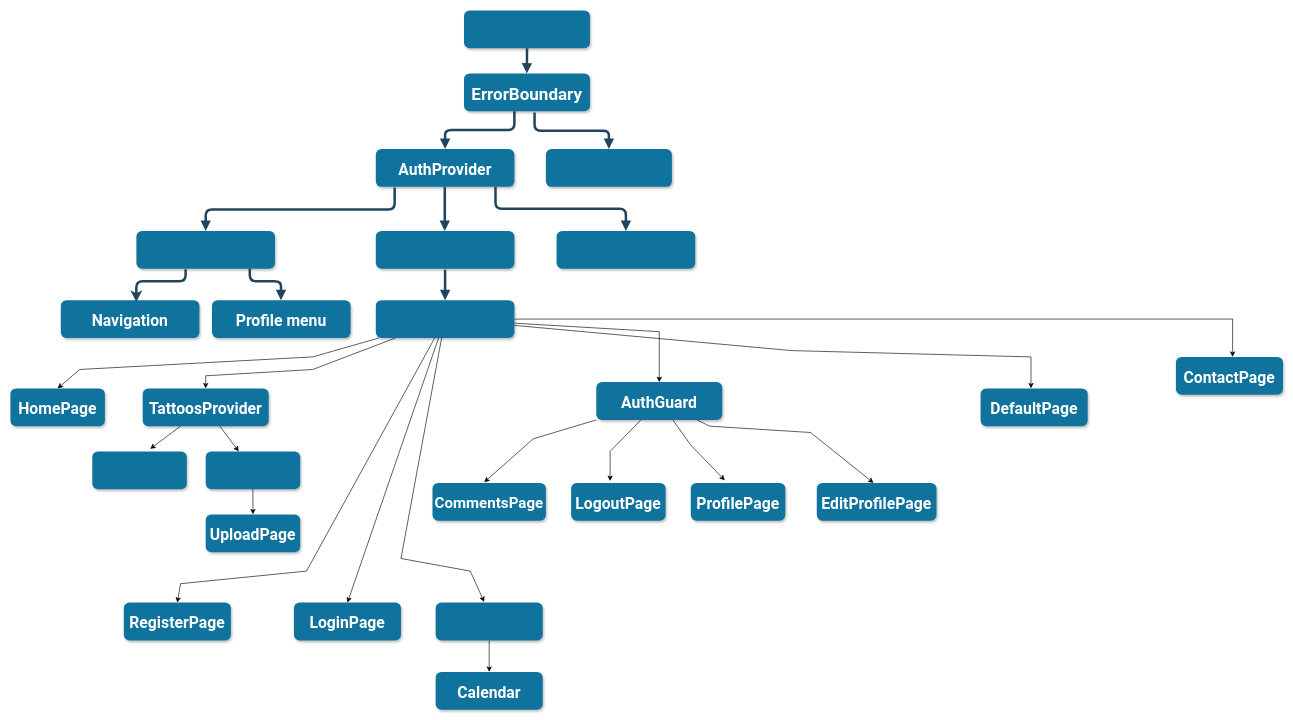
This 1293x720 diagram has some shape labels left out. The shapes that lost their labels are listed below. From the top down, each one's centre as x and y in pixels, then its label:
the point at 527,30: APP
the point at 609,168: Footer
the point at 206,250: Header
the point at 445,250: Views
the point at 626,250: Notification
the point at 445,319: RoutesWrapper
the point at 139,471: GalleryPage
the point at 253,471: AdminGuard
the point at 489,622: BookingPage
